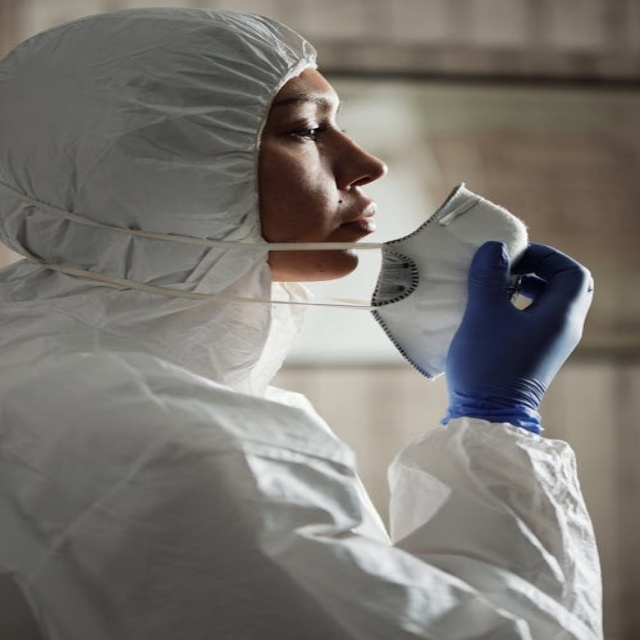Guantes: (436, 238, 592, 434)
Sin_gafas: (264, 91, 352, 146)
Sin_mascara: (300, 182, 381, 280)
